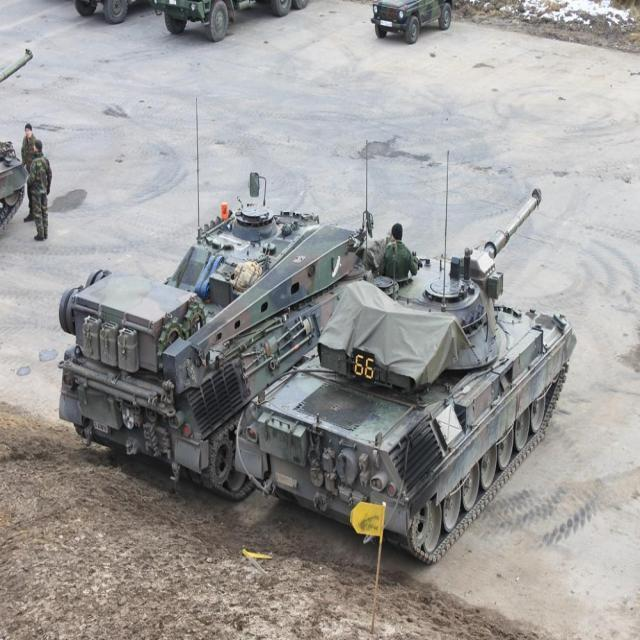Tanks: (257, 182, 578, 527), (51, 203, 377, 507)
